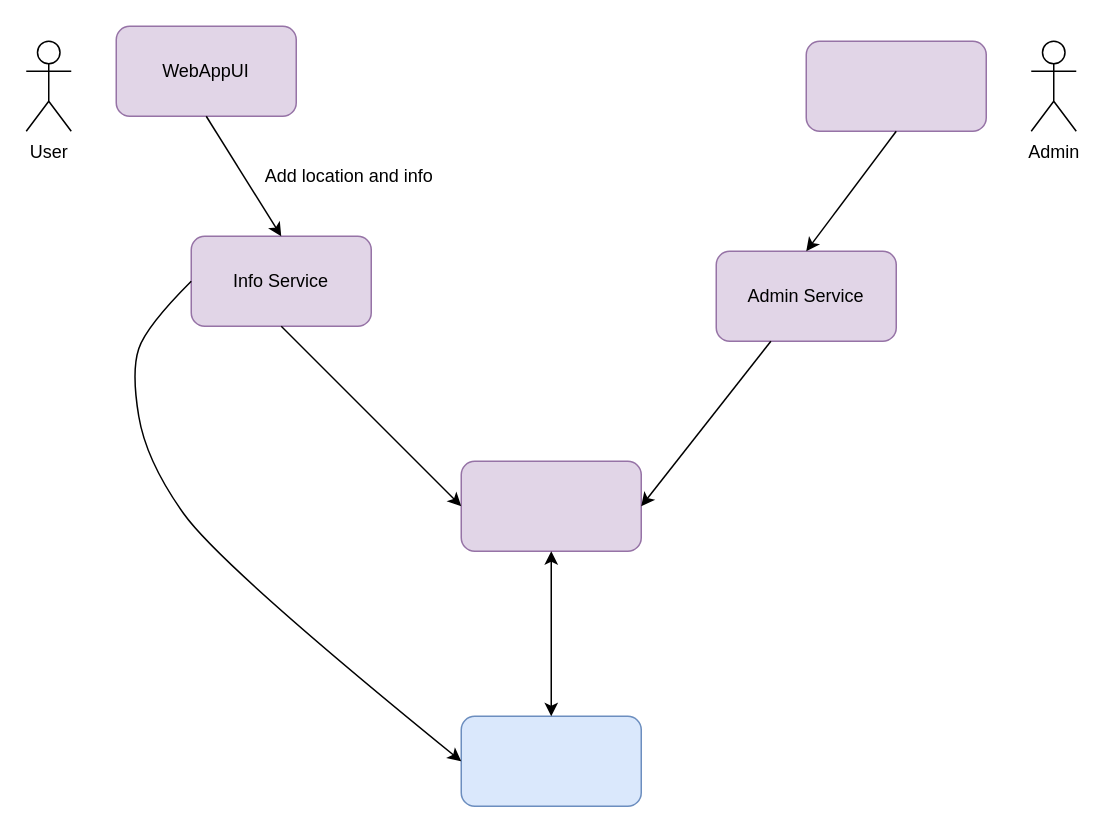
This 1106x833 diagram has some shape labels left out. The centre of each missing label's shape, as x and y in pixels:
"Admin Panel" belongs at point 895,85.
"DataBase" belongs at point 550,760.
"User Management" belongs at point 550,505.
